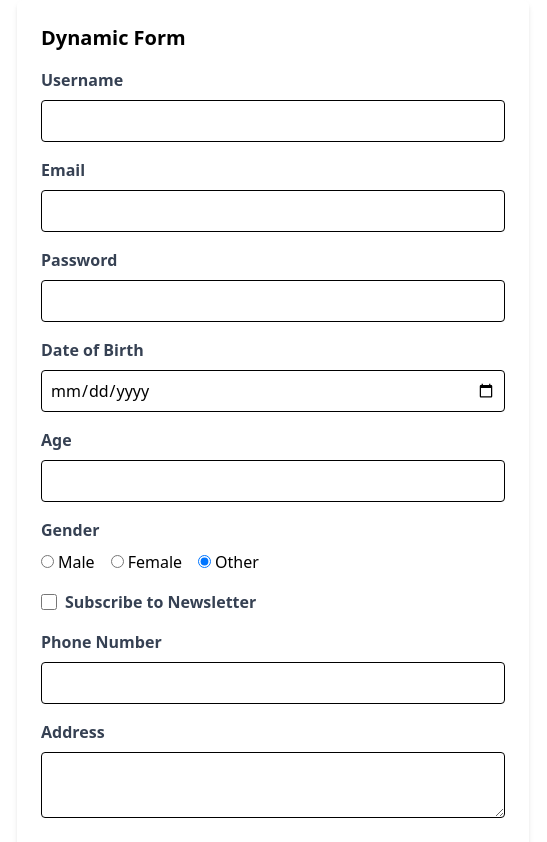
Scenario: displays conditional field when checkbox is checked
This screenshot has width=547, height=842.
Click the checkbox labelled "Subscribe to Newsletter" at {"x": 49, "y": 602}, box x1=41 y1=594 x2=57 y2=610
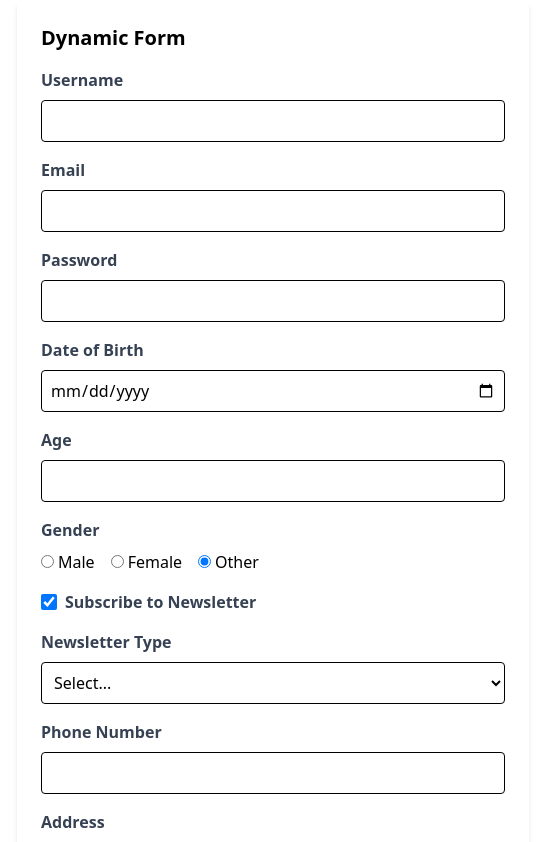
Check: the dropdown labelled "Newsletter Type" is shown, box x1=41 y1=662 x2=505 y2=704
